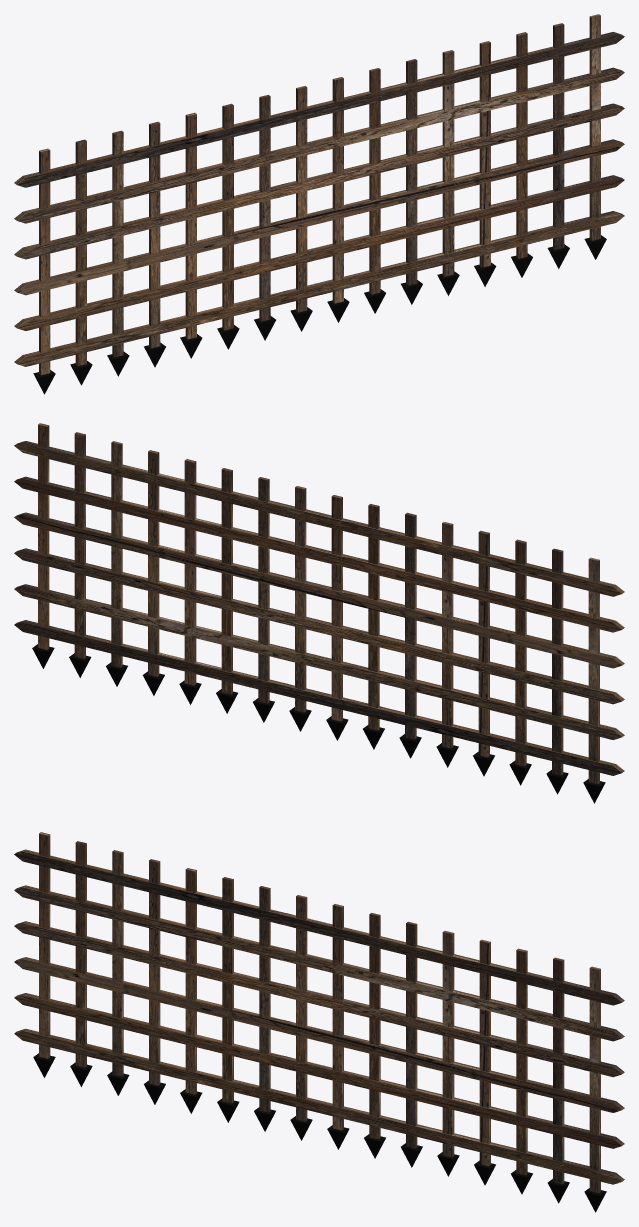
The model's file is Gate.FBX.
3 renders of one model, top to bottom at view 1: azimuth 30°, elevation 25°; view 2: azimuth 150°, elevation 25°; view 3: azimuth 330°, elevation 25°, orthographic.
Visible parts, largest first — view 1: Object001, Box016; view 2: Object001, Box016; view 3: Object001, Box016.
Part boxes in pixels (<box>): Object001: <box>14,32,624,366</box>; Box016: <box>39,14,600,375</box>; Object001: <box>14,441,624,775</box>; Box016: <box>38,423,599,784</box>; Object001: <box>14,849,624,1184</box>; Box016: <box>39,832,600,1193</box>.
Bounding box in the file's own units: 698 × 268 × 11.74.
Materials: 2 (1 with a texture image).
